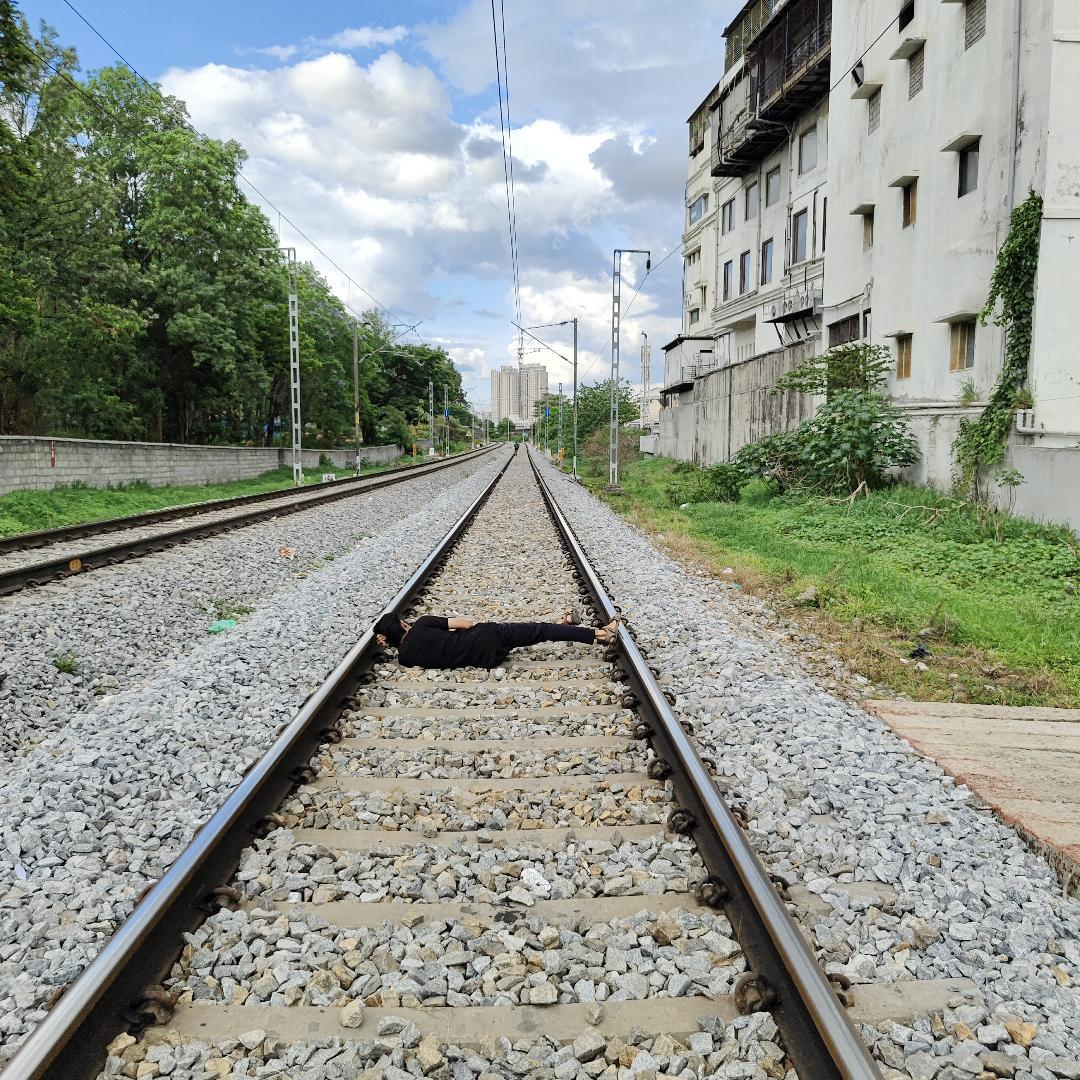sleeping: (357, 604, 640, 676)
